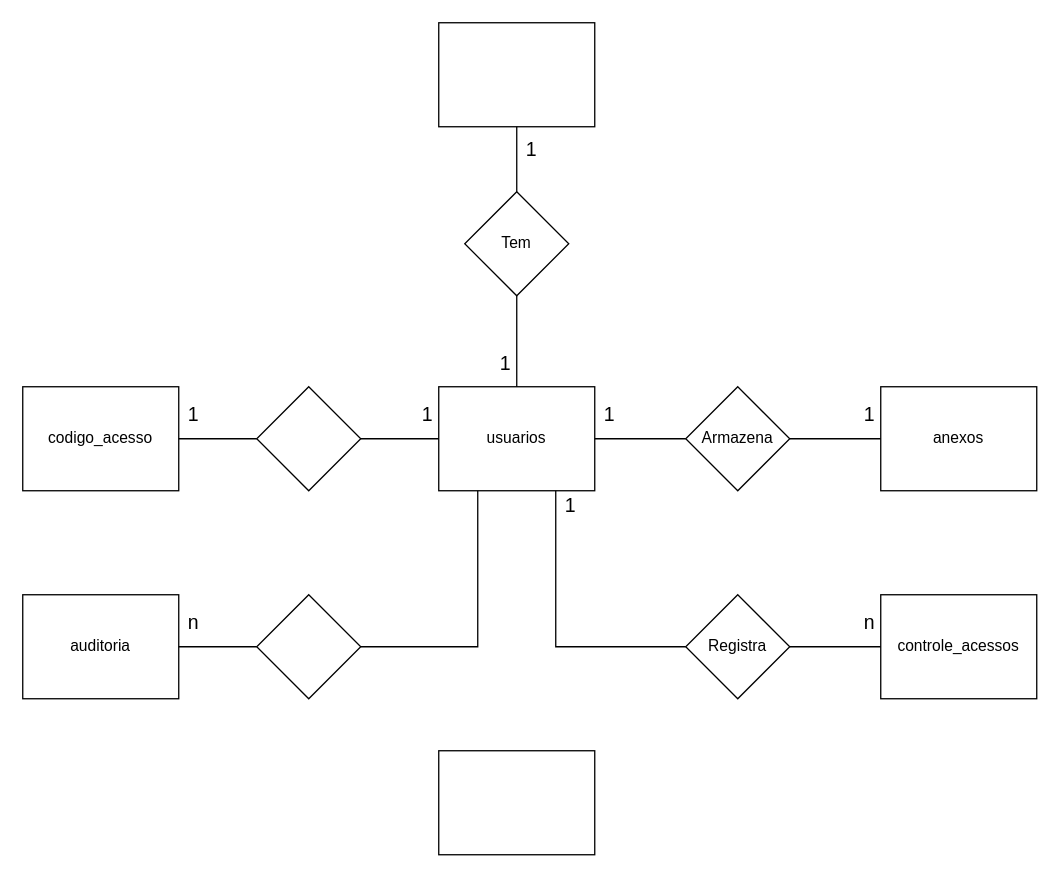
Some shapes in this 1060 by 877 pixel diagram are drawn without their labels. The centre of each missing label's shape, as x and y in pixels:
Gera: pixel 308 646
parametro: pixel 516 802
perfil: pixel 516 74
Possui: pixel 308 438
